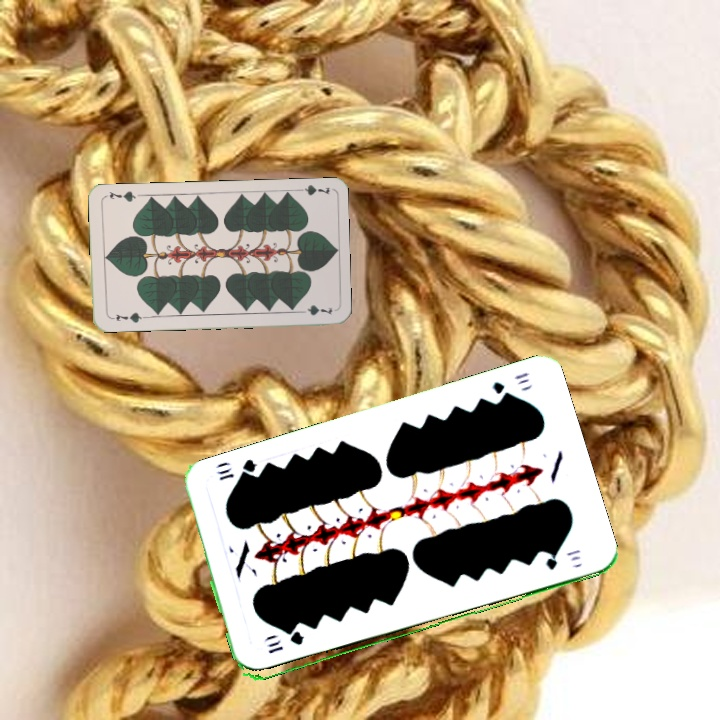G10: (488, 368, 531, 402), (264, 631, 307, 656)
G7: (291, 181, 332, 198), (112, 308, 147, 325)
